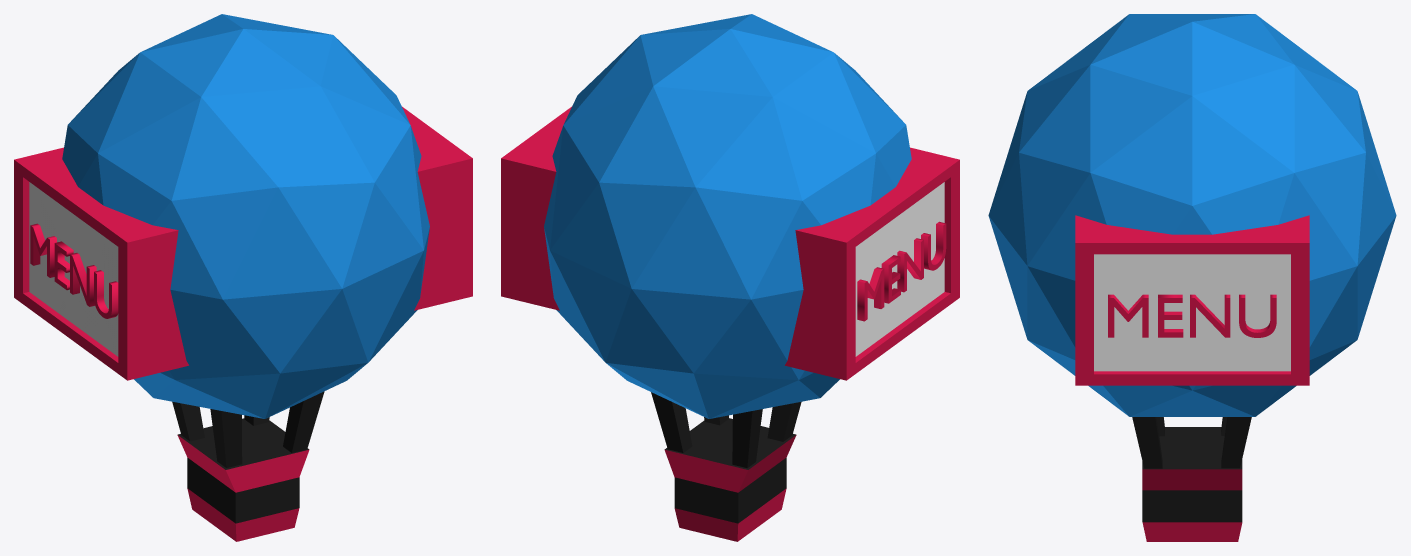
File: balon_udara.gltf
3 views of the same model, side by side, from view 1: azimuth 30°, elevation 25°; view 2: azimuth 150°, elevation 25°; view 3: azimuth 270°, elevation 25° (orthographic). The views are drawn at different scales.
Visible parts, largest first — view 1: balon_udara; view 2: balon_udara; view 3: balon_udara.
Boxes of the visible parts, box(x1,y1,x2,y2) form: balon_udara: box(14, 14, 472, 541); balon_udara: box(501, 14, 959, 541); balon_udara: box(988, 14, 1396, 541).
Bounding box in the file's own units: 3.53 × 4.76 × 3.48.
